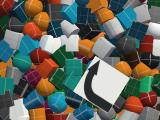Right: (73, 56, 130, 114)
